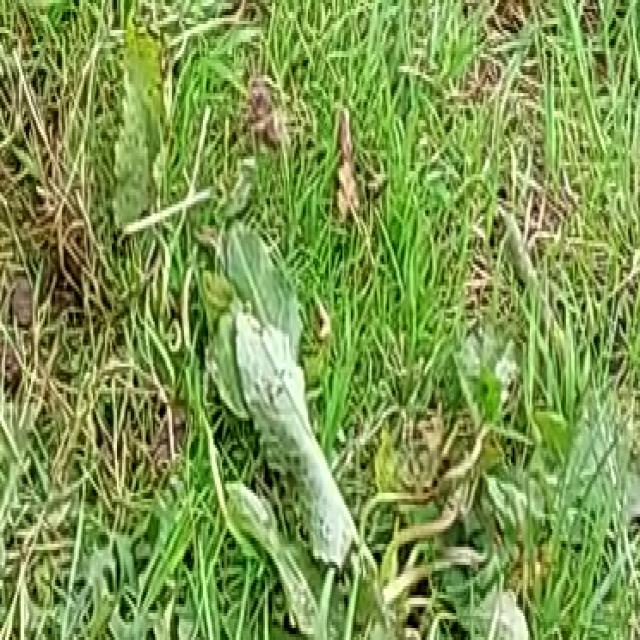organic waste: (174, 201, 442, 640)
